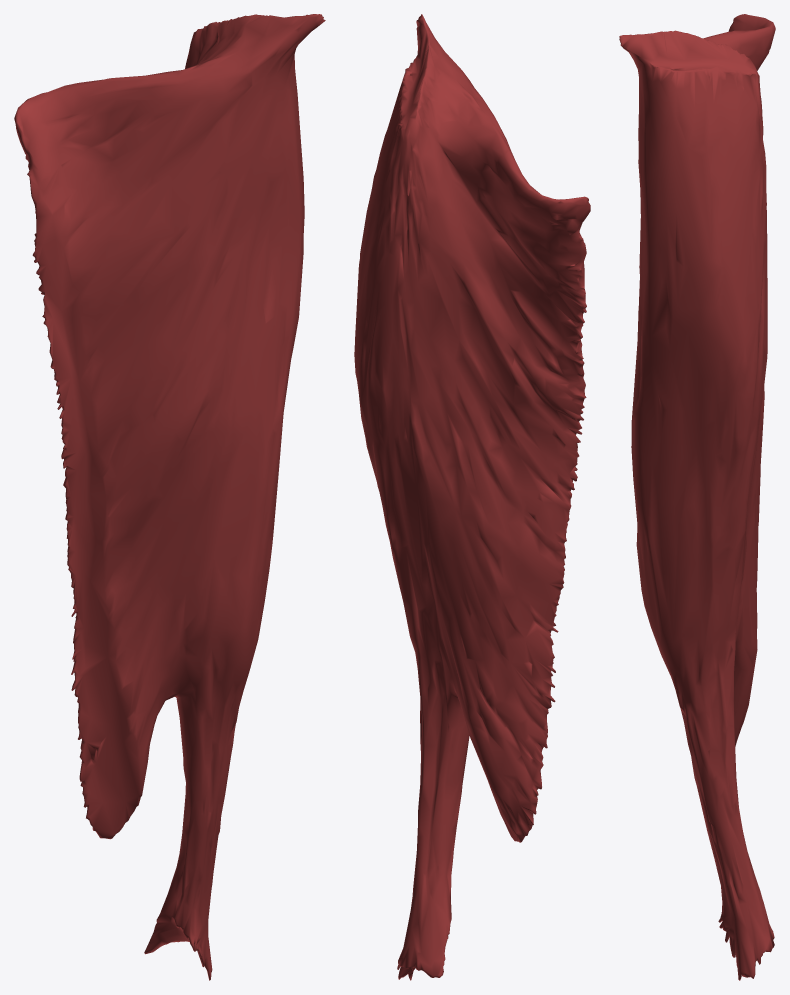
File: adductor-magnus-r.glb
3 renders of one model, left to right at view 1: azimuth 30°, elevation 25°; view 2: azimuth 150°, elevation 25°; view 3: azimuth 270°, elevation 25°, orthographic. The views are drawn at different scales.
Visible parts, largest first — view 1: Adductor magnus.r; view 2: Adductor magnus.r; view 3: Adductor magnus.r.
Part boxes in pixels (box(x1,y1,x2,y2)): Adductor magnus.r: box(14, 14, 325, 980); Adductor magnus.r: box(354, 14, 590, 980); Adductor magnus.r: box(619, 14, 775, 980).
Bounding box in the file's own units: 0.0976 × 0.3578 × 0.0524.
